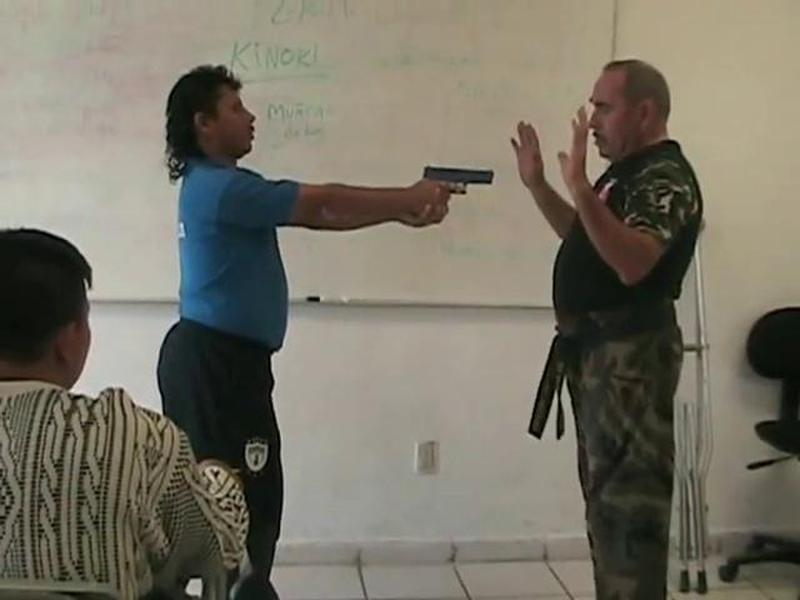Pistola: (412, 154, 511, 233)
